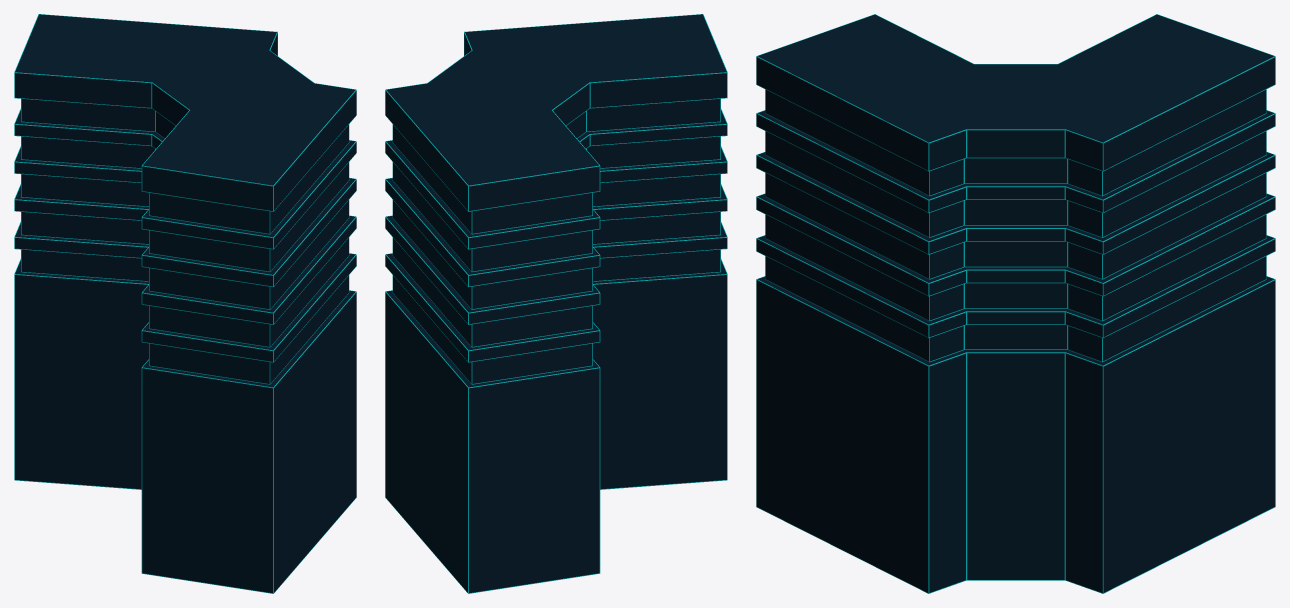
3 renders of one model, left to right at view 1: azimuth 30°, elevation 25°; view 2: azimuth 150°, elevation 25°; view 3: azimuth 270°, elevation 25°, orthographic. The views are drawn at different scales.
Visible parts, largest first — view 1: BuildingG01; view 2: BuildingG01; view 3: BuildingG01.
Part boxes in pixels (box(x1,y1,x2,y2)): BuildingG01: box(14, 14, 356, 593); BuildingG01: box(385, 14, 727, 593); BuildingG01: box(756, 14, 1275, 593).
Size of the model in its own units: 76.61 by 125 by 130.
1 material, 1 textured.
